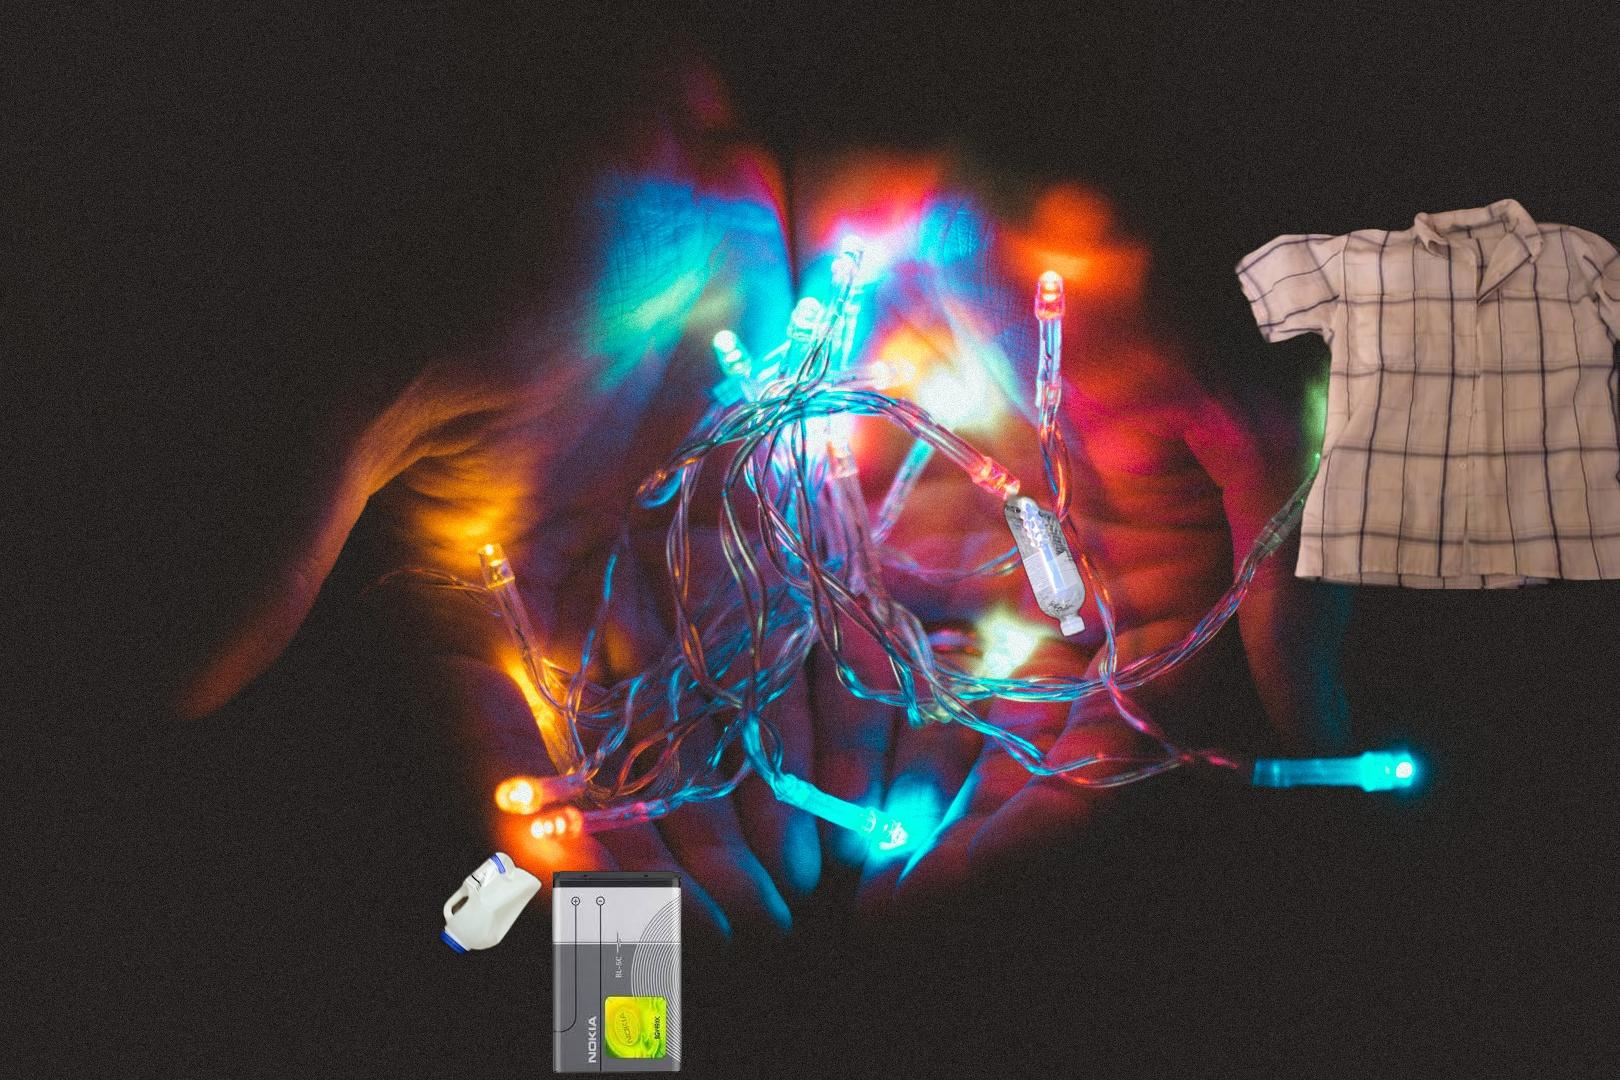battery: (548, 868, 683, 1076)
clothes: (1227, 195, 1620, 589)
paper-bag: (1479, 626, 1620, 926)
plastic-bottles: (999, 487, 1088, 642), (434, 845, 546, 961)
